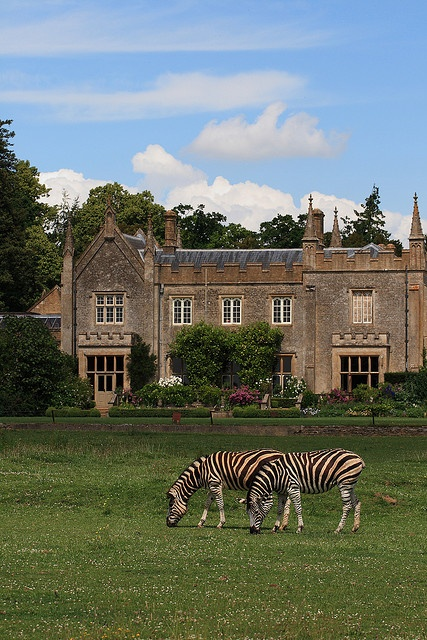zebra: (304, 491, 427, 583), (220, 488, 332, 568)
